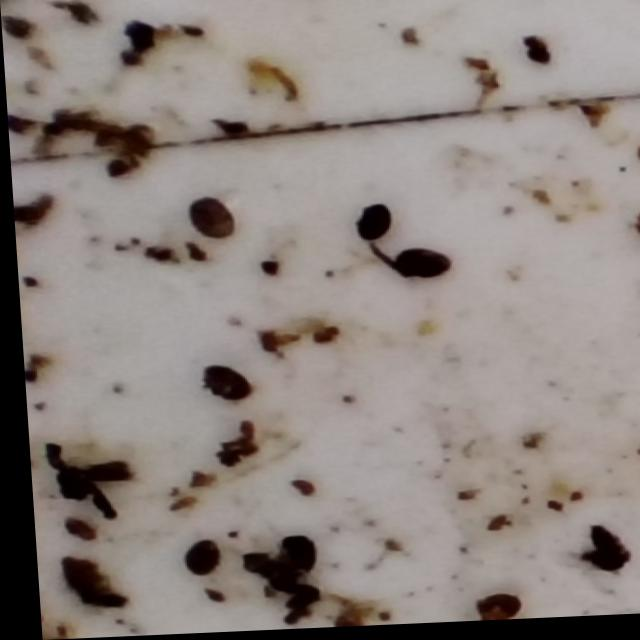varroa: (185, 196, 236, 244), (194, 364, 248, 408), (387, 252, 453, 287), (348, 207, 390, 248), (268, 537, 311, 577), (174, 540, 216, 580)
